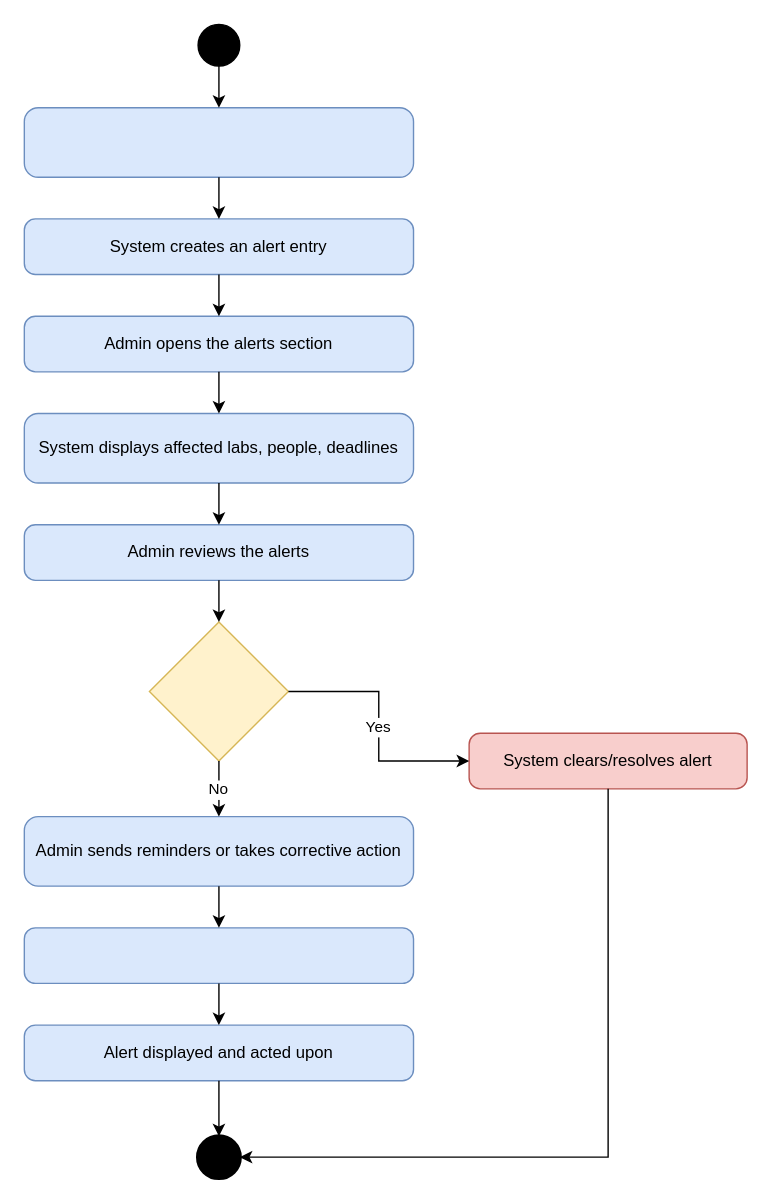
Some shapes in this 771 by 1204 pixel diagram are drawn without their labels. The centre of each missing label's shape, as x and y in pixels:
"Certification renewed?" goes at (218,691).
"System detects expiring or overdue certifications" goes at (218,141).
"System logs the admin action" goes at (218,954).
